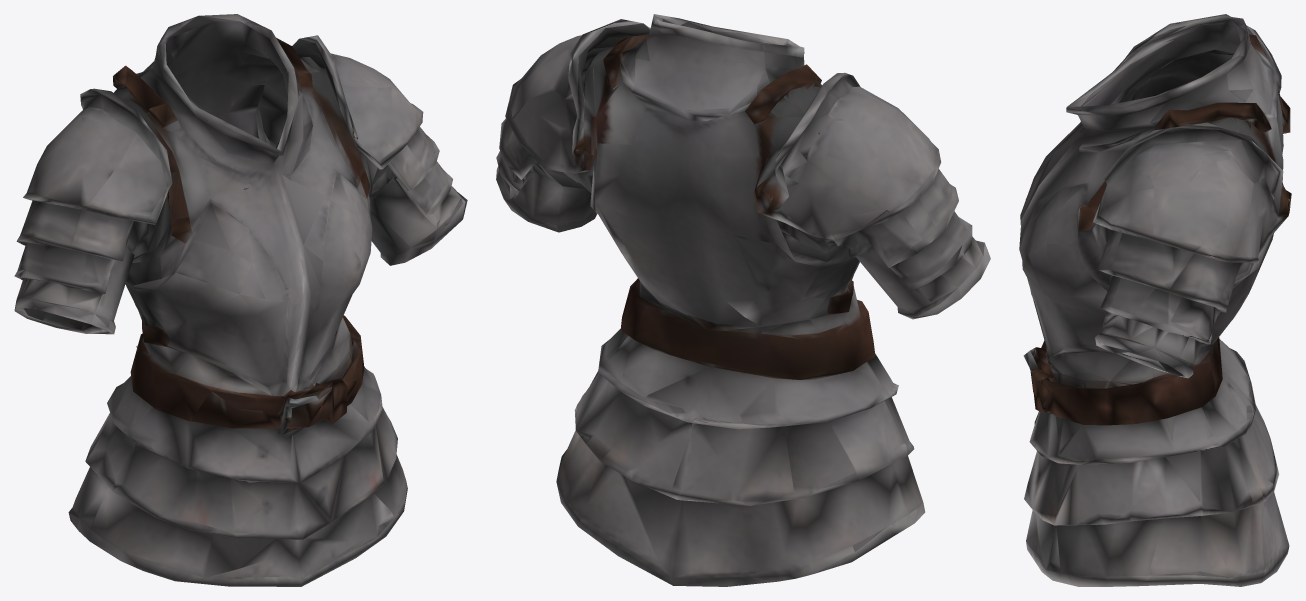
Rendered from plate-suit-15k-v5.glb.
The picture shows the model from 3 angles, left to right: view 1: azimuth 30°, elevation 25°; view 2: azimuth 150°, elevation 25°; view 3: azimuth 270°, elevation 25°; orthographic projection. The views are drawn at different scales.
Parts seen in each view (by area): view 1: plate-suit-15k-v1; view 2: plate-suit-15k-v1; view 3: plate-suit-15k-v1.
Boxes of the visible parts, x1,y1,x2,y2 form: plate-suit-15k-v1: (14, 14, 467, 586); plate-suit-15k-v1: (496, 14, 990, 586); plate-suit-15k-v1: (1019, 14, 1291, 586).
Size of the model in its own units: 0.9311 by 1 by 0.4748.
Materials: 1 (1 with a texture image).
